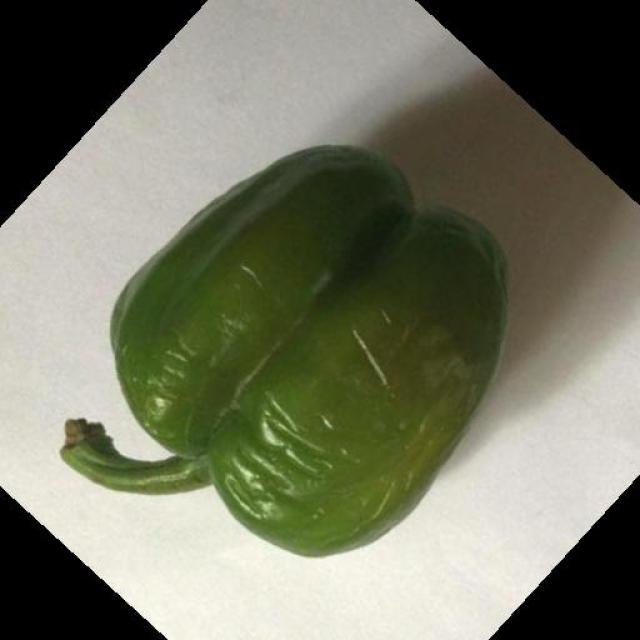Stale_Capsicum: (55, 172, 538, 532)
